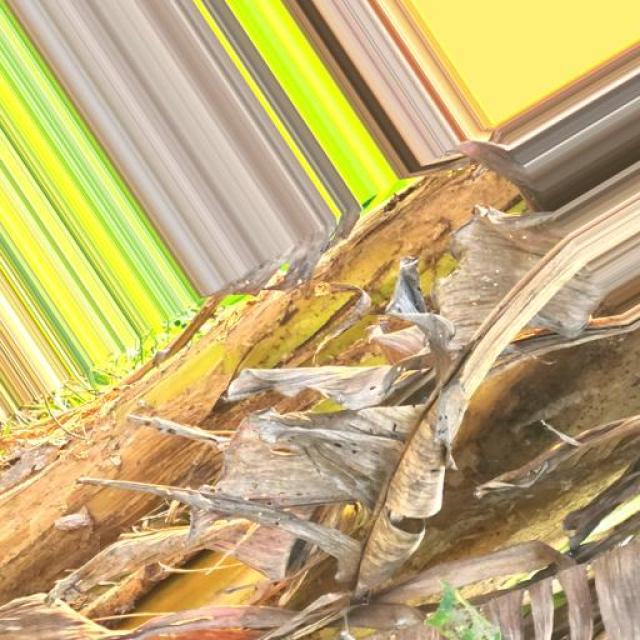Bract_mosaic_virus: (0, 360, 640, 640), (129, 222, 640, 406), (344, 120, 640, 252)
